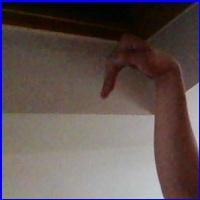A: (96, 28, 178, 103)
